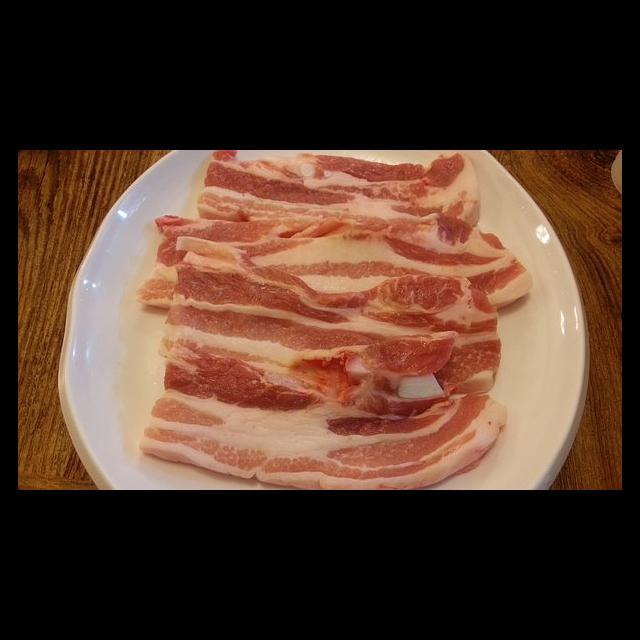pork: (156, 248, 488, 395), (137, 383, 493, 490), (192, 155, 484, 229)
